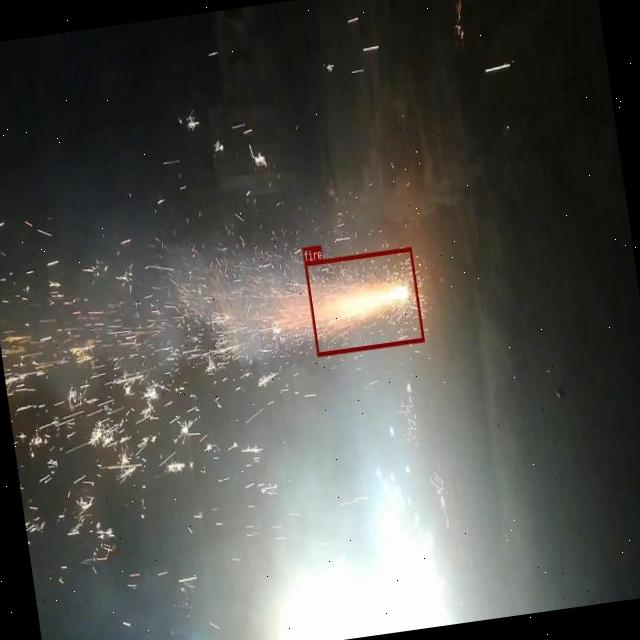fire: (304, 247, 424, 356)
